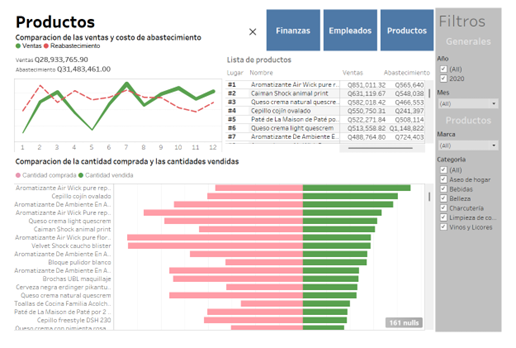

What the dashboard file says about the page in this screenshot:
{"tool":"tableau","page":{"name":"Productos","canvas":[1200,800],"ordinal":2},"visuals":[{"type":"text","box":[8,8,611,108]},{"type":"dashboard-object","box":[619,8,138,108]},{"type":"dashboard-object","box":[757,8,138,108]},{"type":"dashboard-object","box":[895,8,137,108]},{"type":"text","box":[1032,8,160,60]},{"type":"dashboard-object","box":[578,54,24,24]},{"type":"text","box":[1032,68,160,40]},{"type":"worksheet","title":"Productos resumen finanzas","mark":"Text","box":[8,116,512,59]},{"type":"text","box":[520,116,512,33]},{"type":"filter","title":"Productos venta y compra","param":"[msolap.13166ry1yr6arp182d6ij1ec3jj6].[Dim Fechas].[Año]","box":[1032,116,160,82]},{"type":"text","box":[520,149,55,30]},{"type":"text","box":[575,149,225,30]},{"type":"text","box":[800,149,100,30]},{"type":"text","box":[900,149,132,30]},{"type":"worksheet","title":"Productos venta y compra","mark":"Line","rows":["Total","TotalGasto"],"cols":["Mes"],"box":[8,175,512,187]},{"type":"worksheet","title":"Productos lista","mark":"Text","rows":["Calculation_369013713605513224","Nombre"],"box":[520,179,512,183]},{"type":"filter","title":"Productos venta y compra","param":"[msolap.13166ry1yr6arp182d6ij1ec3jj6].[Dim Fechas].[Mes]","box":[1032,198,160,61]},{"type":"text","box":[1032,259,160,40]},{"type":"filter","title":"Productos lista","param":"[msolap.13166ry1yr6arp182d6ij1ec3jj6].[Dim Productos].[Marca]","box":[1032,299,160,61]},{"type":"filter","title":"Productos lista","param":"[msolap.13166ry1yr6arp182d6ij1ec3jj6].[Dim Productos].[Categoria]","box":[1032,360,160,197]},{"type":"text","box":[8,362,1024,67]},{"type":"worksheet","title":"Productos disponible y vendido","mark":"Bar","rows":["Nombre"],"cols":["TotalUnidades","Calculation_369013713612603401"],"box":[8,429,1024,363]}]}

Visuals, with their boxes in screenshot pixels (x1, y1, x2, y2), scaled from the page's 1200x800 canvas onto the 516x348 screenshot:
text: x1=3 y1=3 x2=266 y2=50
dashboard-object: x1=266 y1=3 x2=326 y2=50
dashboard-object: x1=326 y1=3 x2=385 y2=50
dashboard-object: x1=385 y1=3 x2=444 y2=50
text: x1=444 y1=3 x2=513 y2=30
dashboard-object: x1=249 y1=23 x2=259 y2=34
text: x1=444 y1=30 x2=513 y2=47
"Productos resumen finanzas" worksheet (Text marks): x1=3 y1=50 x2=224 y2=76
text: x1=224 y1=50 x2=444 y2=65
"Productos venta y compra" filter: x1=444 y1=50 x2=513 y2=86
text: x1=224 y1=65 x2=247 y2=78
text: x1=247 y1=65 x2=344 y2=78
text: x1=344 y1=65 x2=387 y2=78
text: x1=387 y1=65 x2=444 y2=78
"Productos venta y compra" worksheet (Line marks): x1=3 y1=76 x2=224 y2=157
"Productos lista" worksheet (Text marks): x1=224 y1=78 x2=444 y2=157
"Productos venta y compra" filter: x1=444 y1=86 x2=513 y2=113
text: x1=444 y1=113 x2=513 y2=130
"Productos lista" filter: x1=444 y1=130 x2=513 y2=157
"Productos lista" filter: x1=444 y1=157 x2=513 y2=242
text: x1=3 y1=157 x2=444 y2=187
"Productos disponible y vendido" worksheet (Bar marks): x1=3 y1=187 x2=444 y2=345
